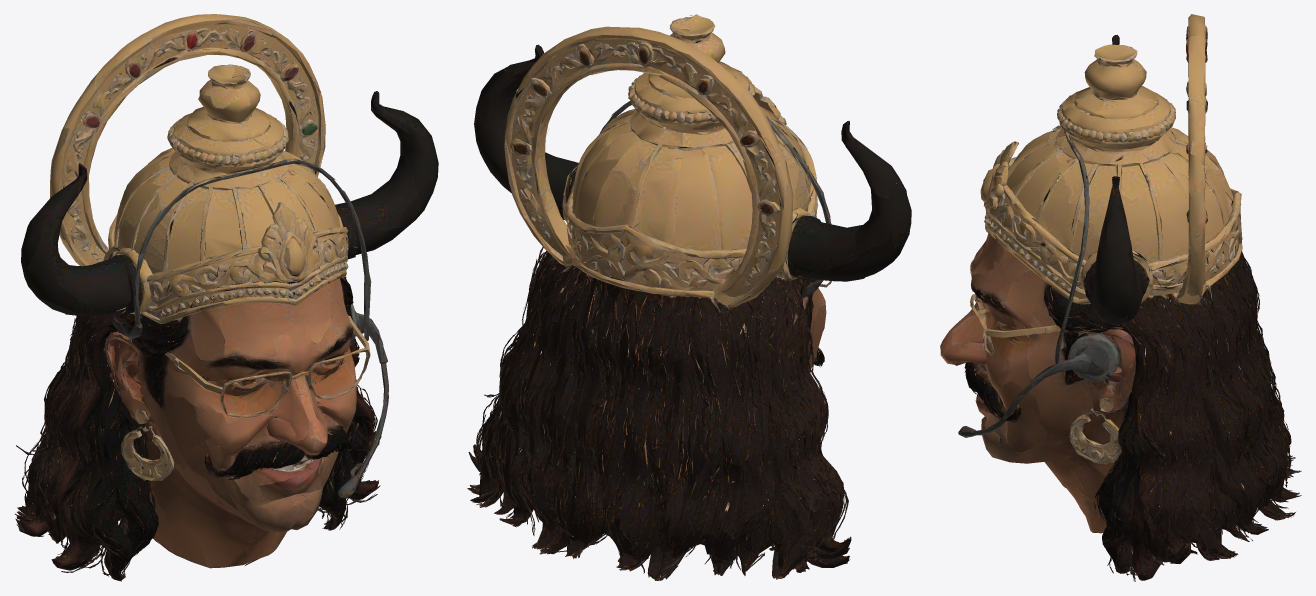
The model's file is head-orator-web.glb.
3 views of the same model, side by side, from view 1: azimuth 30°, elevation 25°; view 2: azimuth 150°, elevation 25°; view 3: azimuth 270°, elevation 25° (orthographic). The views are drawn at different scales.
Visible parts, largest first — view 1: mesh_node; view 2: mesh_node; view 3: mesh_node.
Boxes of the visible parts, x1=… form: mesh_node: x1=15, y1=14, x2=438, y2=581; mesh_node: x1=467, y1=14, x2=911, y2=580; mesh_node: x1=940, y1=14, x2=1301, y2=581.
Bounding box in the file's own units: 1.61 × 1.9 × 1.26.
1 material, 1 textured.
